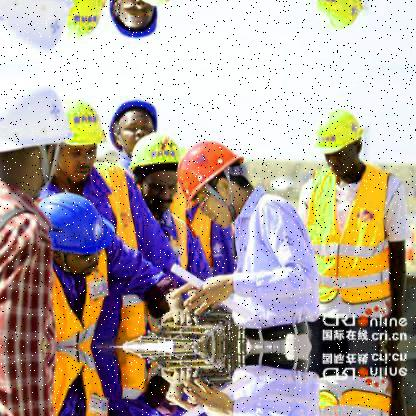Helmet: (178, 144, 262, 228), (0, 84, 69, 174), (58, 92, 112, 184), (130, 126, 184, 216), (307, 100, 368, 178), (110, 87, 166, 162), (8, 0, 78, 54), (60, 3, 108, 49), (300, 0, 376, 27), (112, 0, 158, 44)
